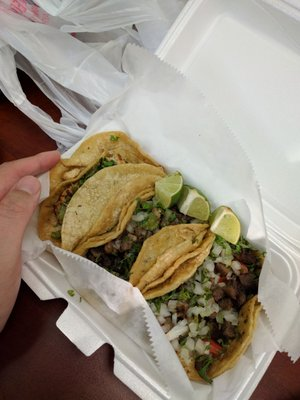pizza: (0, 93, 62, 363), (0, 149, 61, 337)
